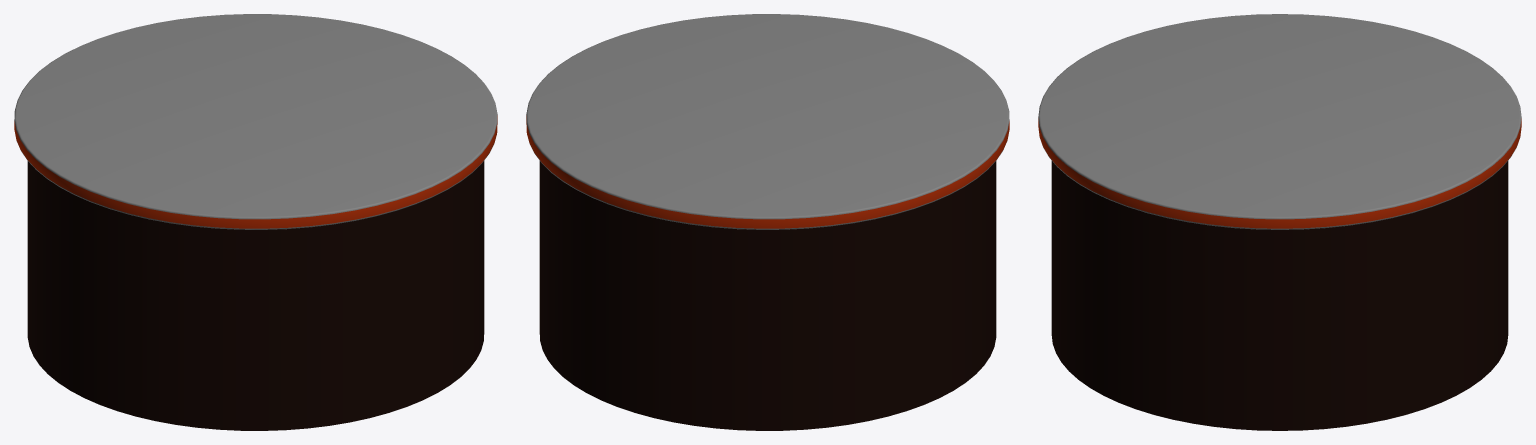
Rendered from STM_Pallet.fbx.
The picture shows the model from 3 angles, left to right: view 1: azimuth 30°, elevation 25°; view 2: azimuth 150°, elevation 25°; view 3: azimuth 270°, elevation 25°; orthographic projection.
Parts seen in each view (by area): view 1: STM_Pallet; view 2: STM_Pallet; view 3: STM_Pallet.
Boxes of the visible parts, x1,y1,x2,y2 form: STM_Pallet: (14, 14, 497, 430); STM_Pallet: (526, 14, 1009, 430); STM_Pallet: (1038, 14, 1521, 430).
Bounding box in the file's own units: 100 × 50 × 100.
